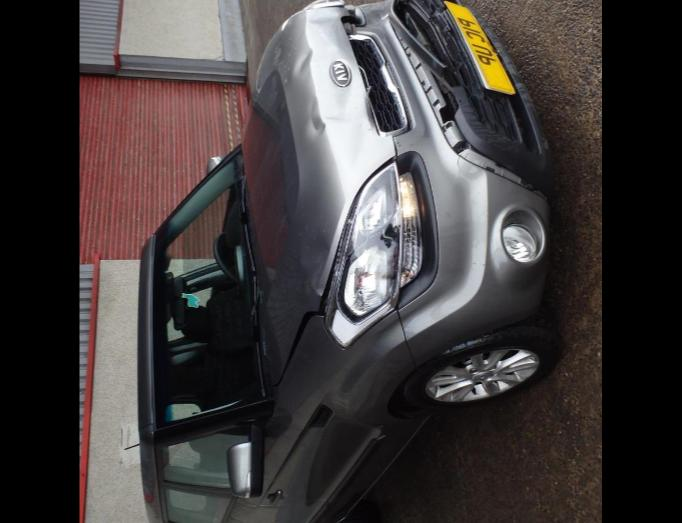Broken part: (242, 0, 400, 384), (388, 0, 548, 200), (344, 0, 366, 26)
Dent: (300, 224, 330, 290), (350, 120, 372, 174), (304, 96, 328, 138), (334, 80, 354, 114), (292, 44, 314, 74), (364, 92, 377, 132), (308, 10, 336, 24), (326, 114, 358, 124)
Flaking: (272, 42, 284, 66), (282, 76, 288, 82), (278, 60, 284, 64), (288, 52, 292, 56), (286, 66, 290, 70), (294, 46, 296, 48)
Paint chip: (458, 156, 460, 176), (396, 140, 400, 146)
